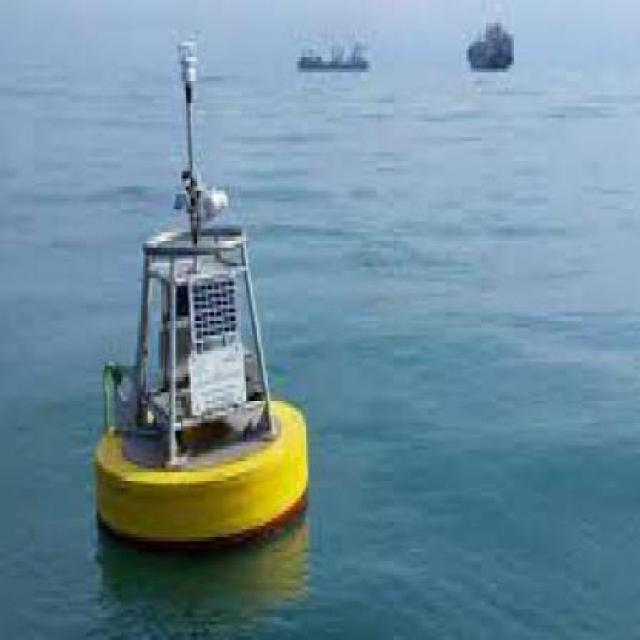buoy: (84, 16, 318, 565)
